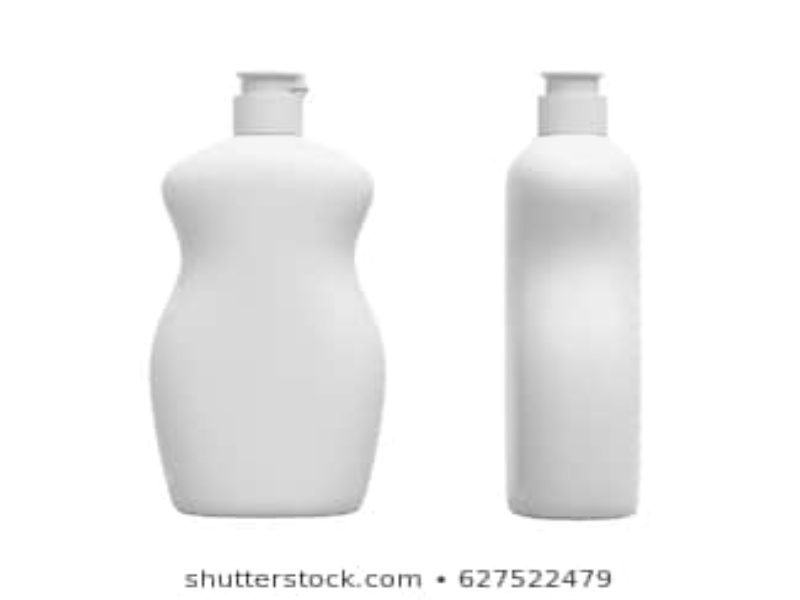detergent-bottle: (146, 66, 389, 522), (492, 67, 669, 522)
